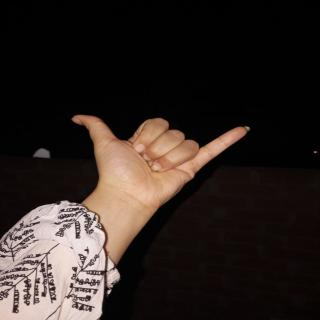YA: (66, 102, 267, 224)
